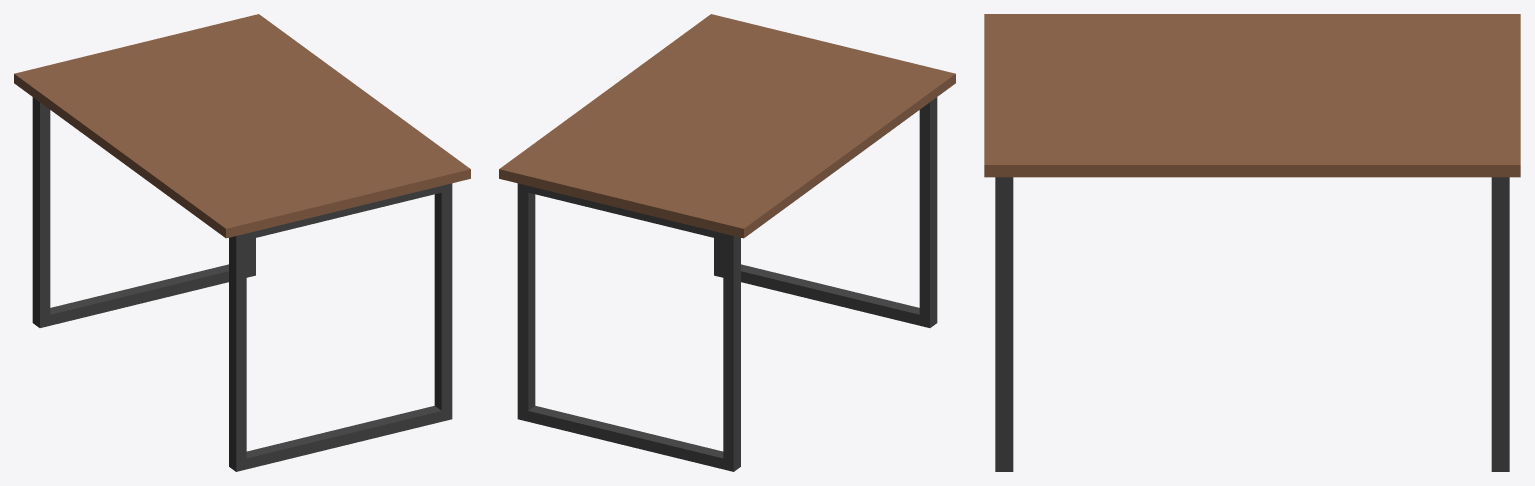
File: Table_03_C3.fbx
3 views of the same model, side by side, from view 1: azimuth 30°, elevation 25°; view 2: azimuth 150°, elevation 25°; view 3: azimuth 270°, elevation 25° (orthographic). The views are drawn at different scales.
Parts seen in each view (by area): view 1: Table_03_C3; view 2: Table_03_C3; view 3: Table_03_C3.
Boxes of the visible parts, bbox=[...] form: Table_03_C3: bbox=[14, 14, 470, 471]; Table_03_C3: bbox=[499, 14, 955, 471]; Table_03_C3: bbox=[984, 14, 1520, 471].
Size of the model in its own units: 80 by 78 by 120.
